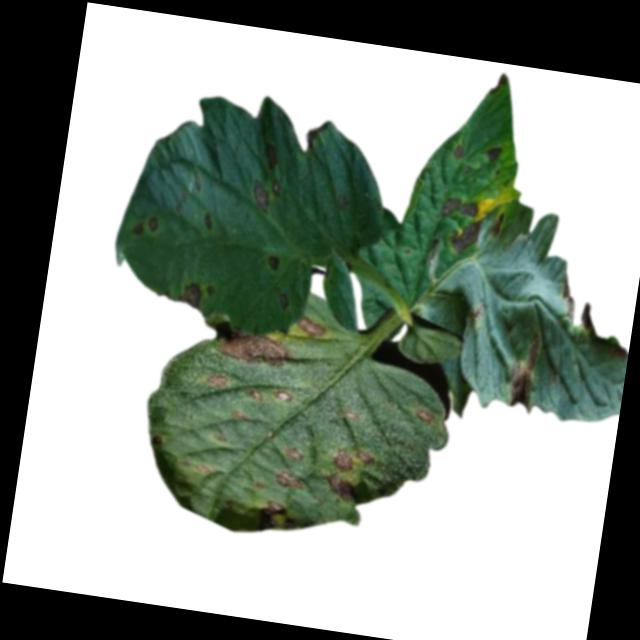Early_blight: (205, 312, 296, 370), (501, 329, 543, 413), (327, 441, 375, 477), (244, 174, 284, 214), (260, 498, 299, 535), (556, 272, 581, 326), (437, 192, 480, 223), (447, 218, 482, 255), (171, 276, 204, 309), (323, 473, 357, 504), (274, 465, 307, 492), (297, 313, 330, 339), (132, 212, 158, 238), (204, 367, 231, 391), (260, 138, 280, 170), (412, 404, 436, 428), (480, 141, 505, 164), (284, 443, 309, 464), (272, 384, 294, 405), (262, 249, 281, 272), (449, 142, 465, 160), (246, 386, 265, 401), (199, 211, 214, 229)
